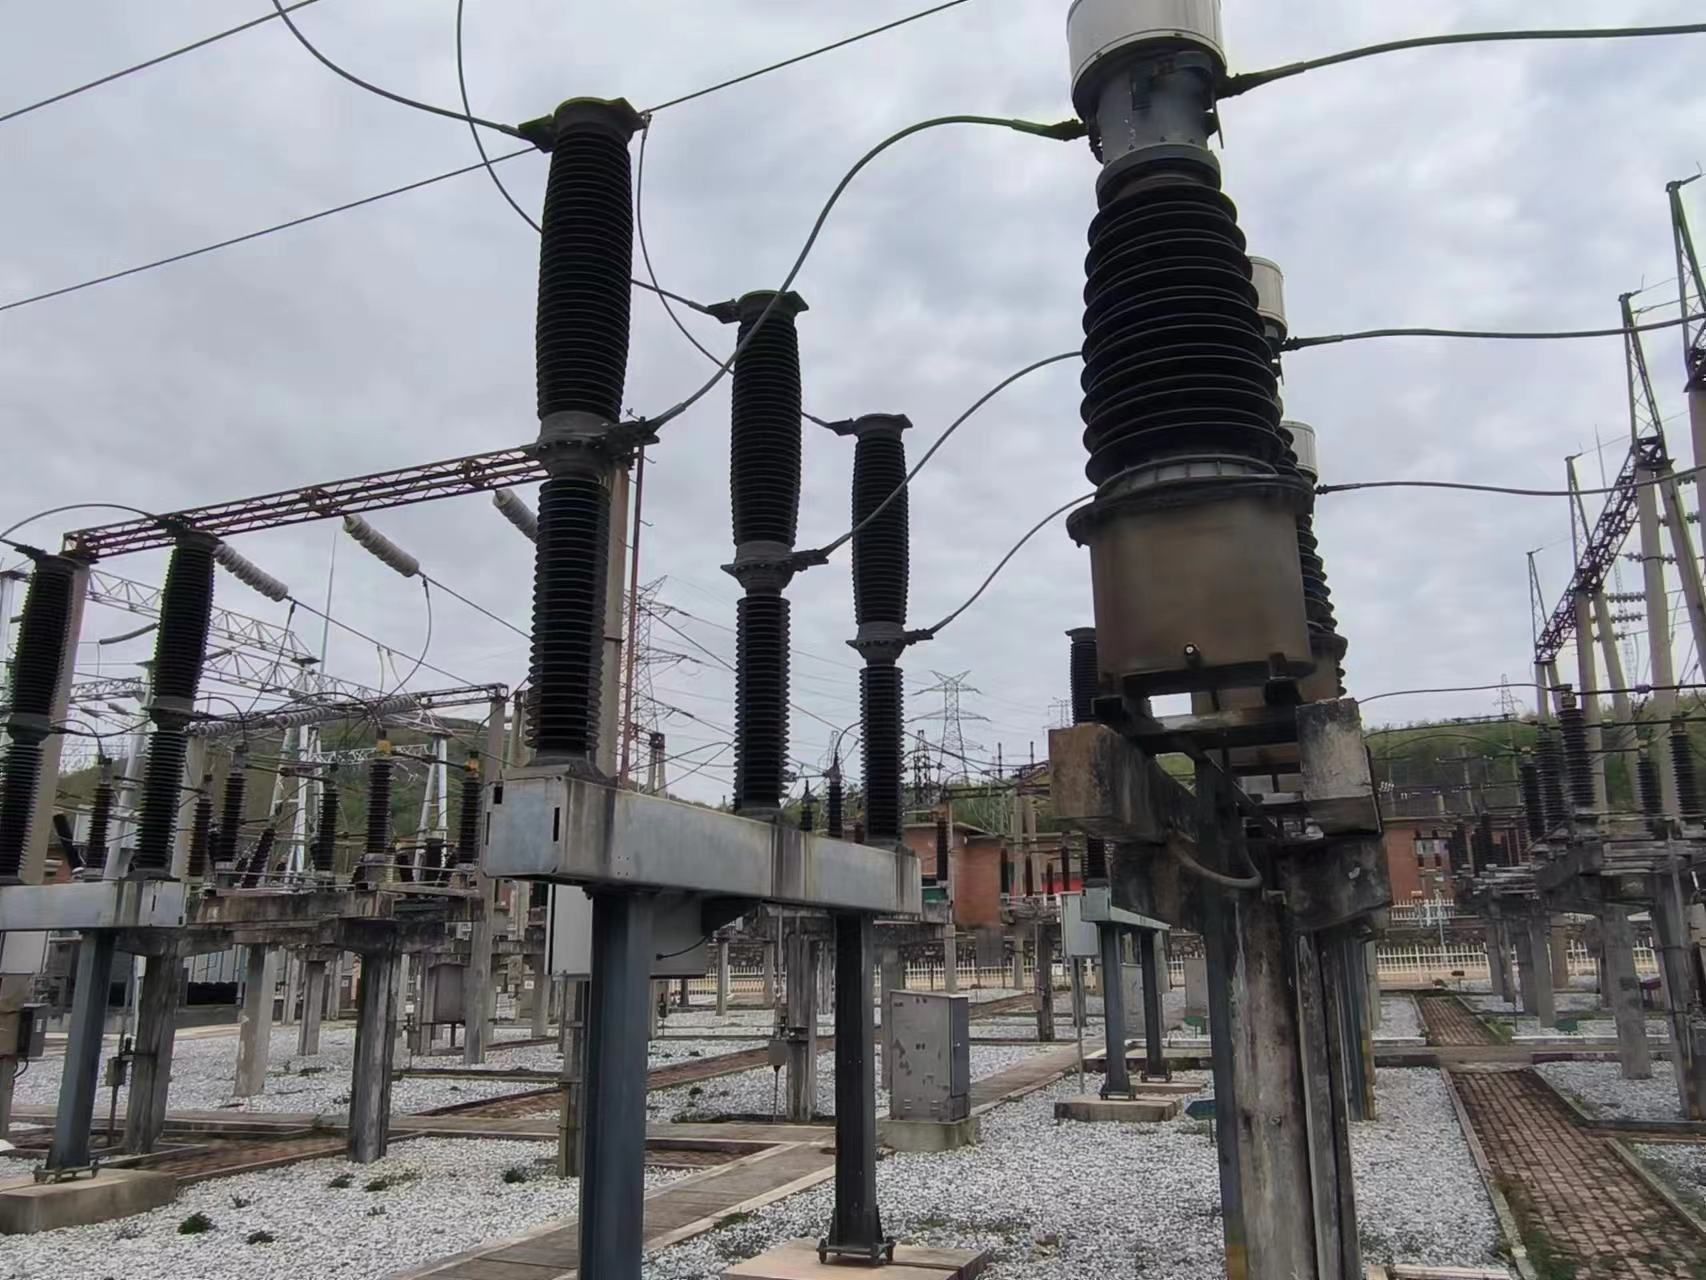Circuit-breaker: (516, 94, 664, 766), (708, 289, 815, 817), (834, 409, 924, 843)
Current transformer: (1059, 1, 1330, 671)
